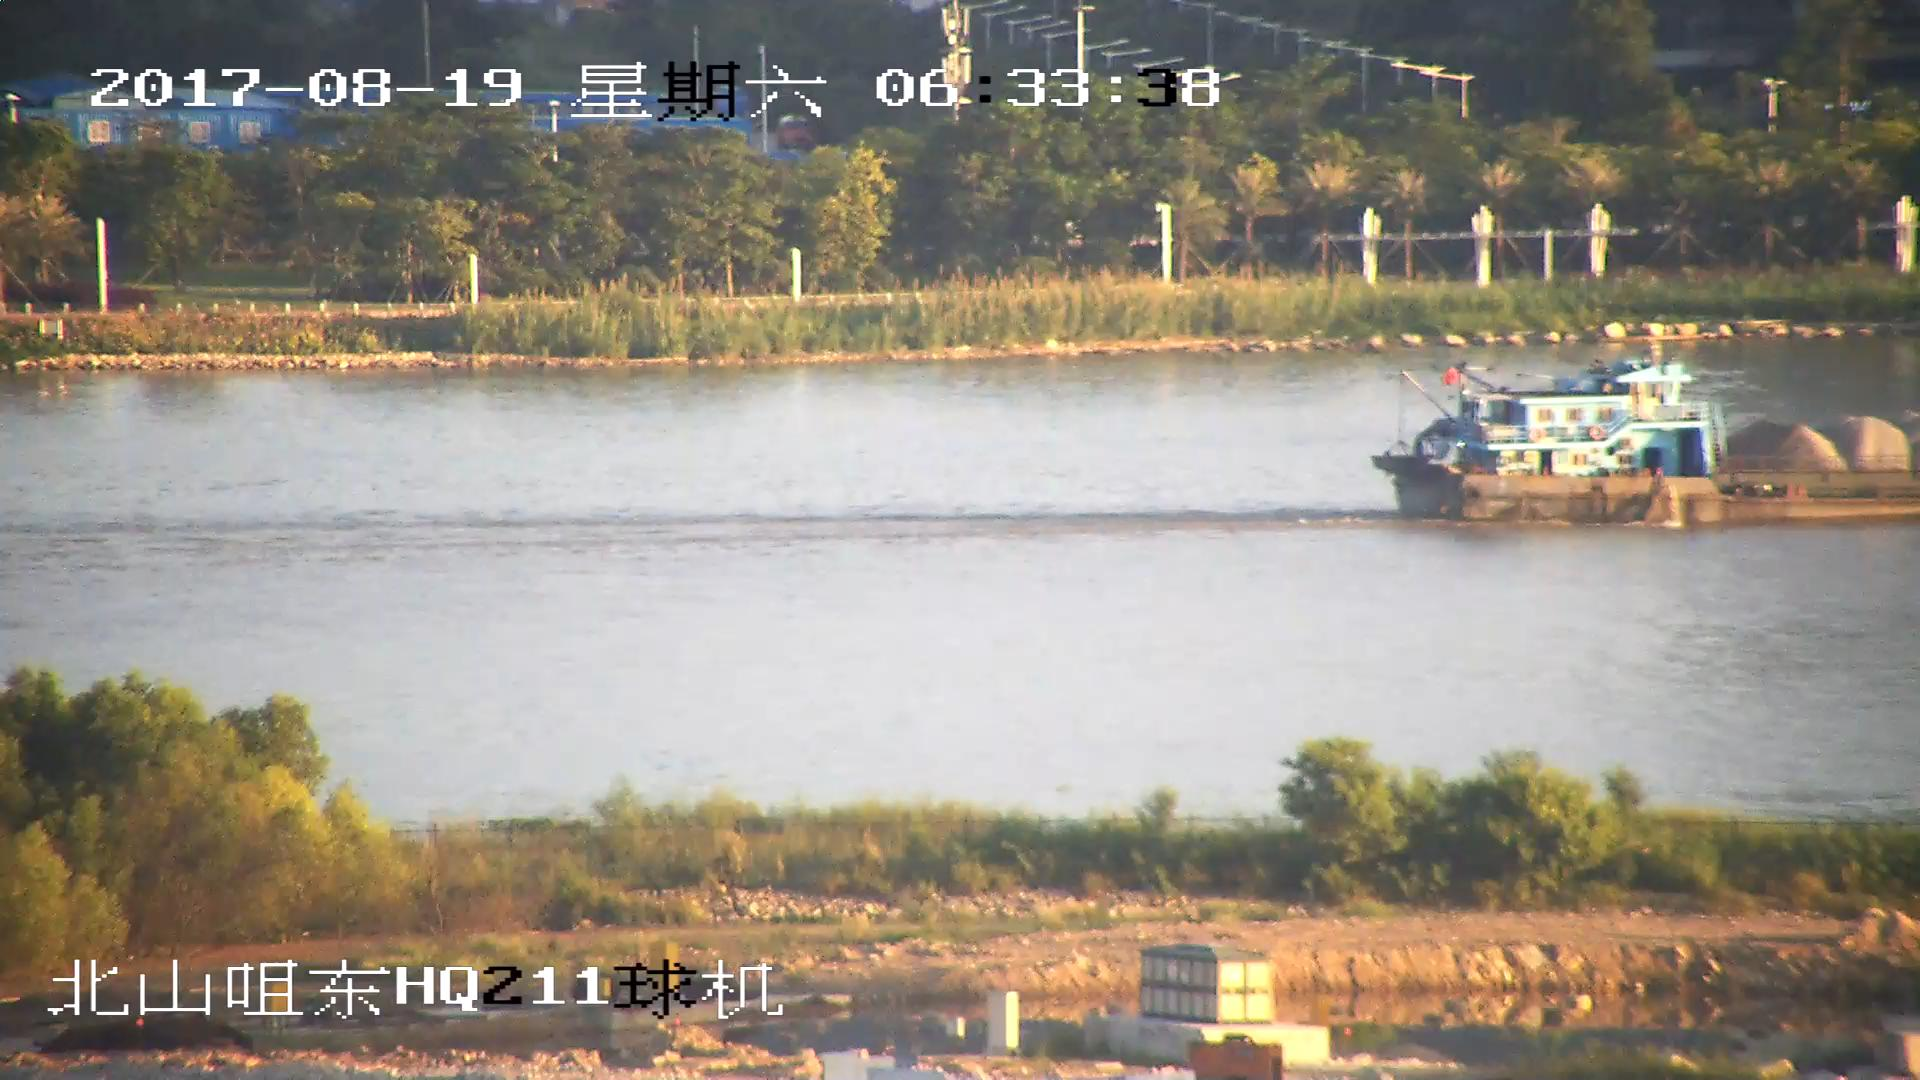ore carrier: (1372, 350, 1920, 528)
